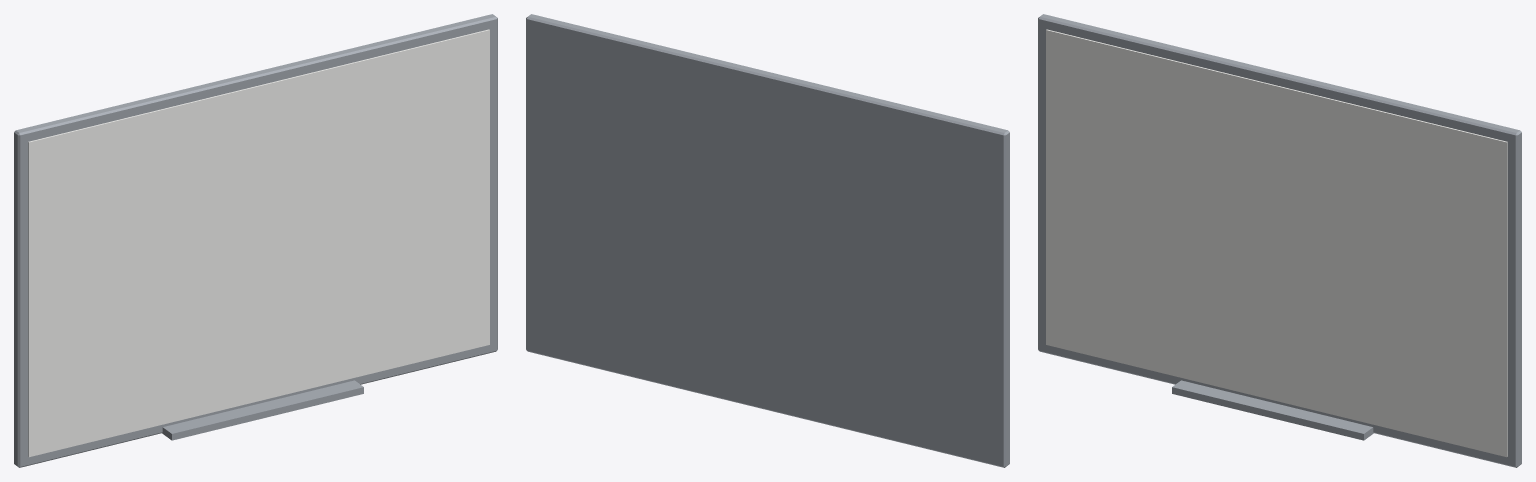
Rendered from whiteboard.glb.
3 views of the same model, side by side, from view 1: azimuth 30°, elevation 25°; view 2: azimuth 150°, elevation 25°; view 3: azimuth 330°, elevation 25° (orthographic).
Visible parts, largest first — view 1: whiteboard_surface, whiteboard; view 2: whiteboard; view 3: whiteboard_surface, whiteboard.
Part boxes in pixels (bbox=[...]): whiteboard_surface: bbox=[28, 29, 489, 457]; whiteboard: bbox=[14, 14, 497, 467]; whiteboard: bbox=[526, 14, 1009, 467]; whiteboard_surface: bbox=[1046, 29, 1507, 457]; whiteboard: bbox=[1038, 14, 1521, 467].
Bounding box in the file's own units: 1.5 × 1 × 0.08.
Materials: 2 (1 with a texture image).
